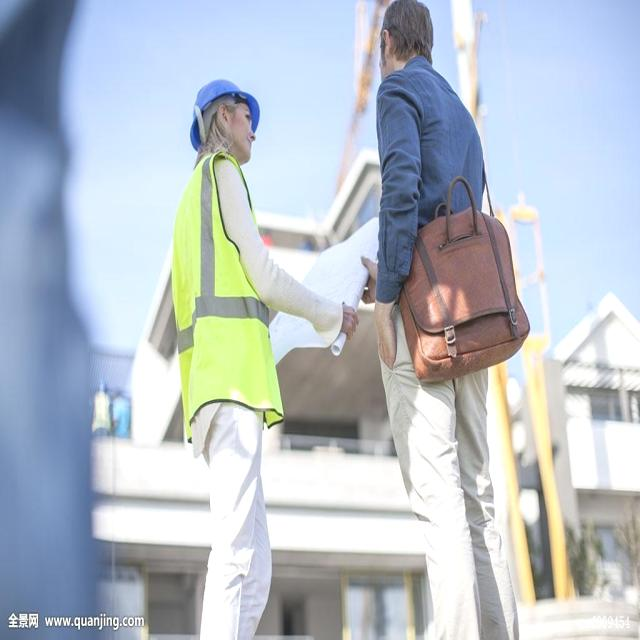helmet: (184, 66, 282, 136)
no-goggles: (213, 102, 269, 134)
no-helmet: (372, 5, 443, 66)
no-vest: (368, 76, 500, 354)
vest: (170, 159, 302, 430)
